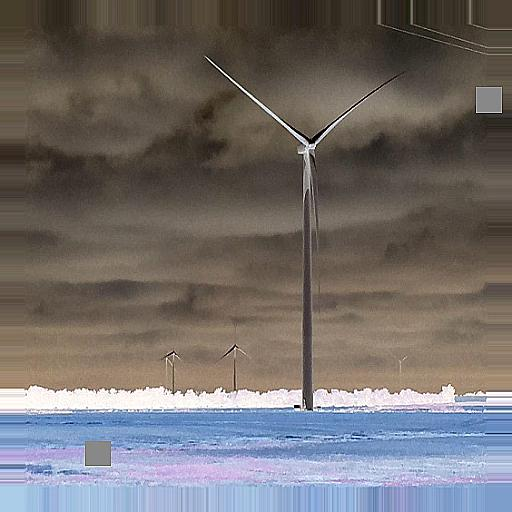wind turbine: (201, 54, 408, 403), (215, 327, 254, 387)
